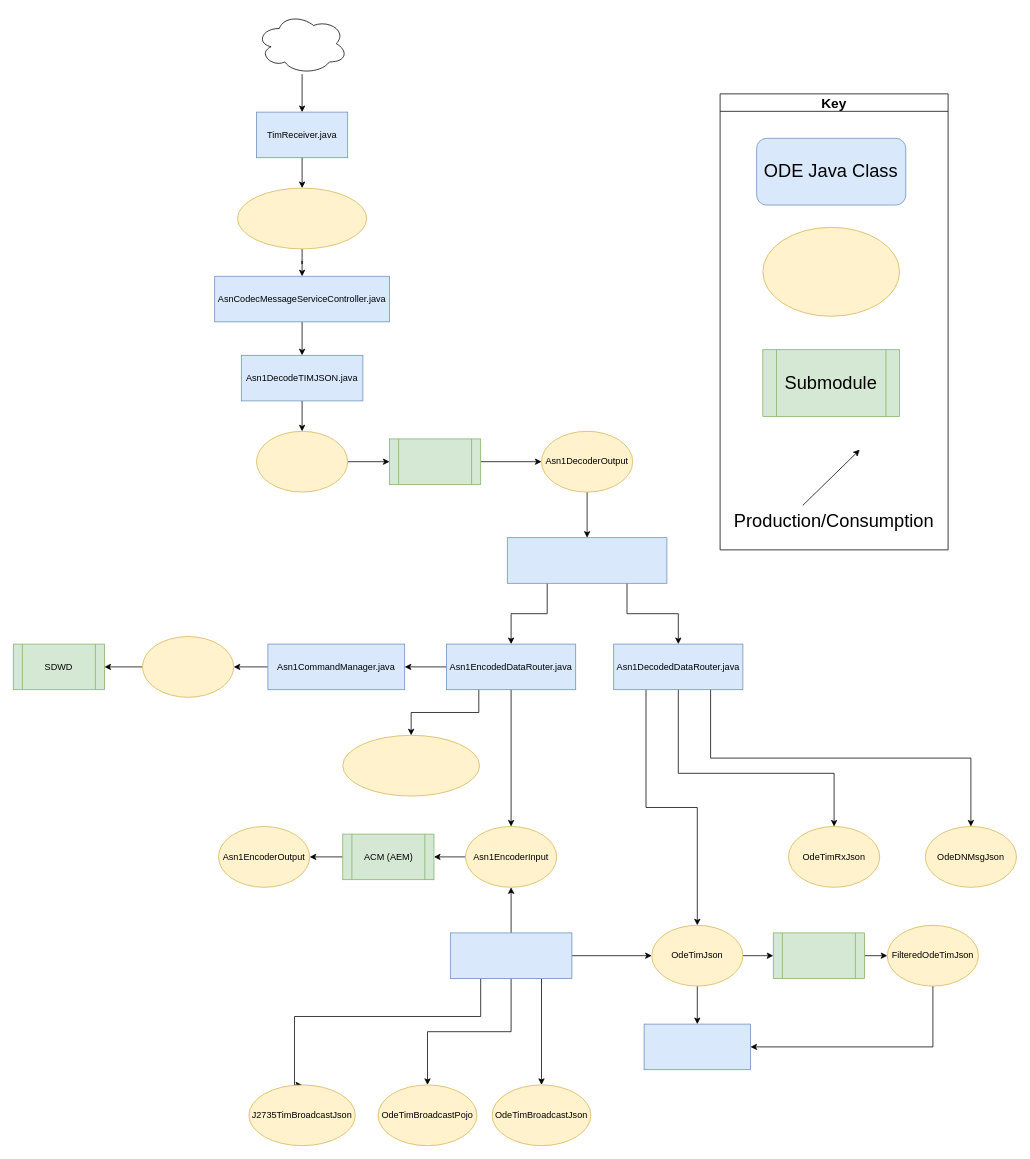
This 1030x1159 diagram has some shape labels left out. The box of each missing label's shape, as (x1, y1, x2, y2) in pixels:
ACM (ADM): (389, 438, 481, 484)
Asn1DecoderInput: (256, 431, 348, 492)
AsnCodecRouterServiceController.java: (507, 537, 667, 583)
FileUploadController.java: (643, 1023, 750, 1070)
Kafka Topic: (762, 227, 900, 316)
OdeRawEncodedTIMJson: (237, 187, 367, 249)
PPM (TIM): (773, 932, 864, 978)
SDWDepositorInput: (142, 636, 234, 697)
SignedOdeTimJsonExpiration: (342, 735, 480, 796)
TimDepositorController.java: (450, 932, 572, 978)
